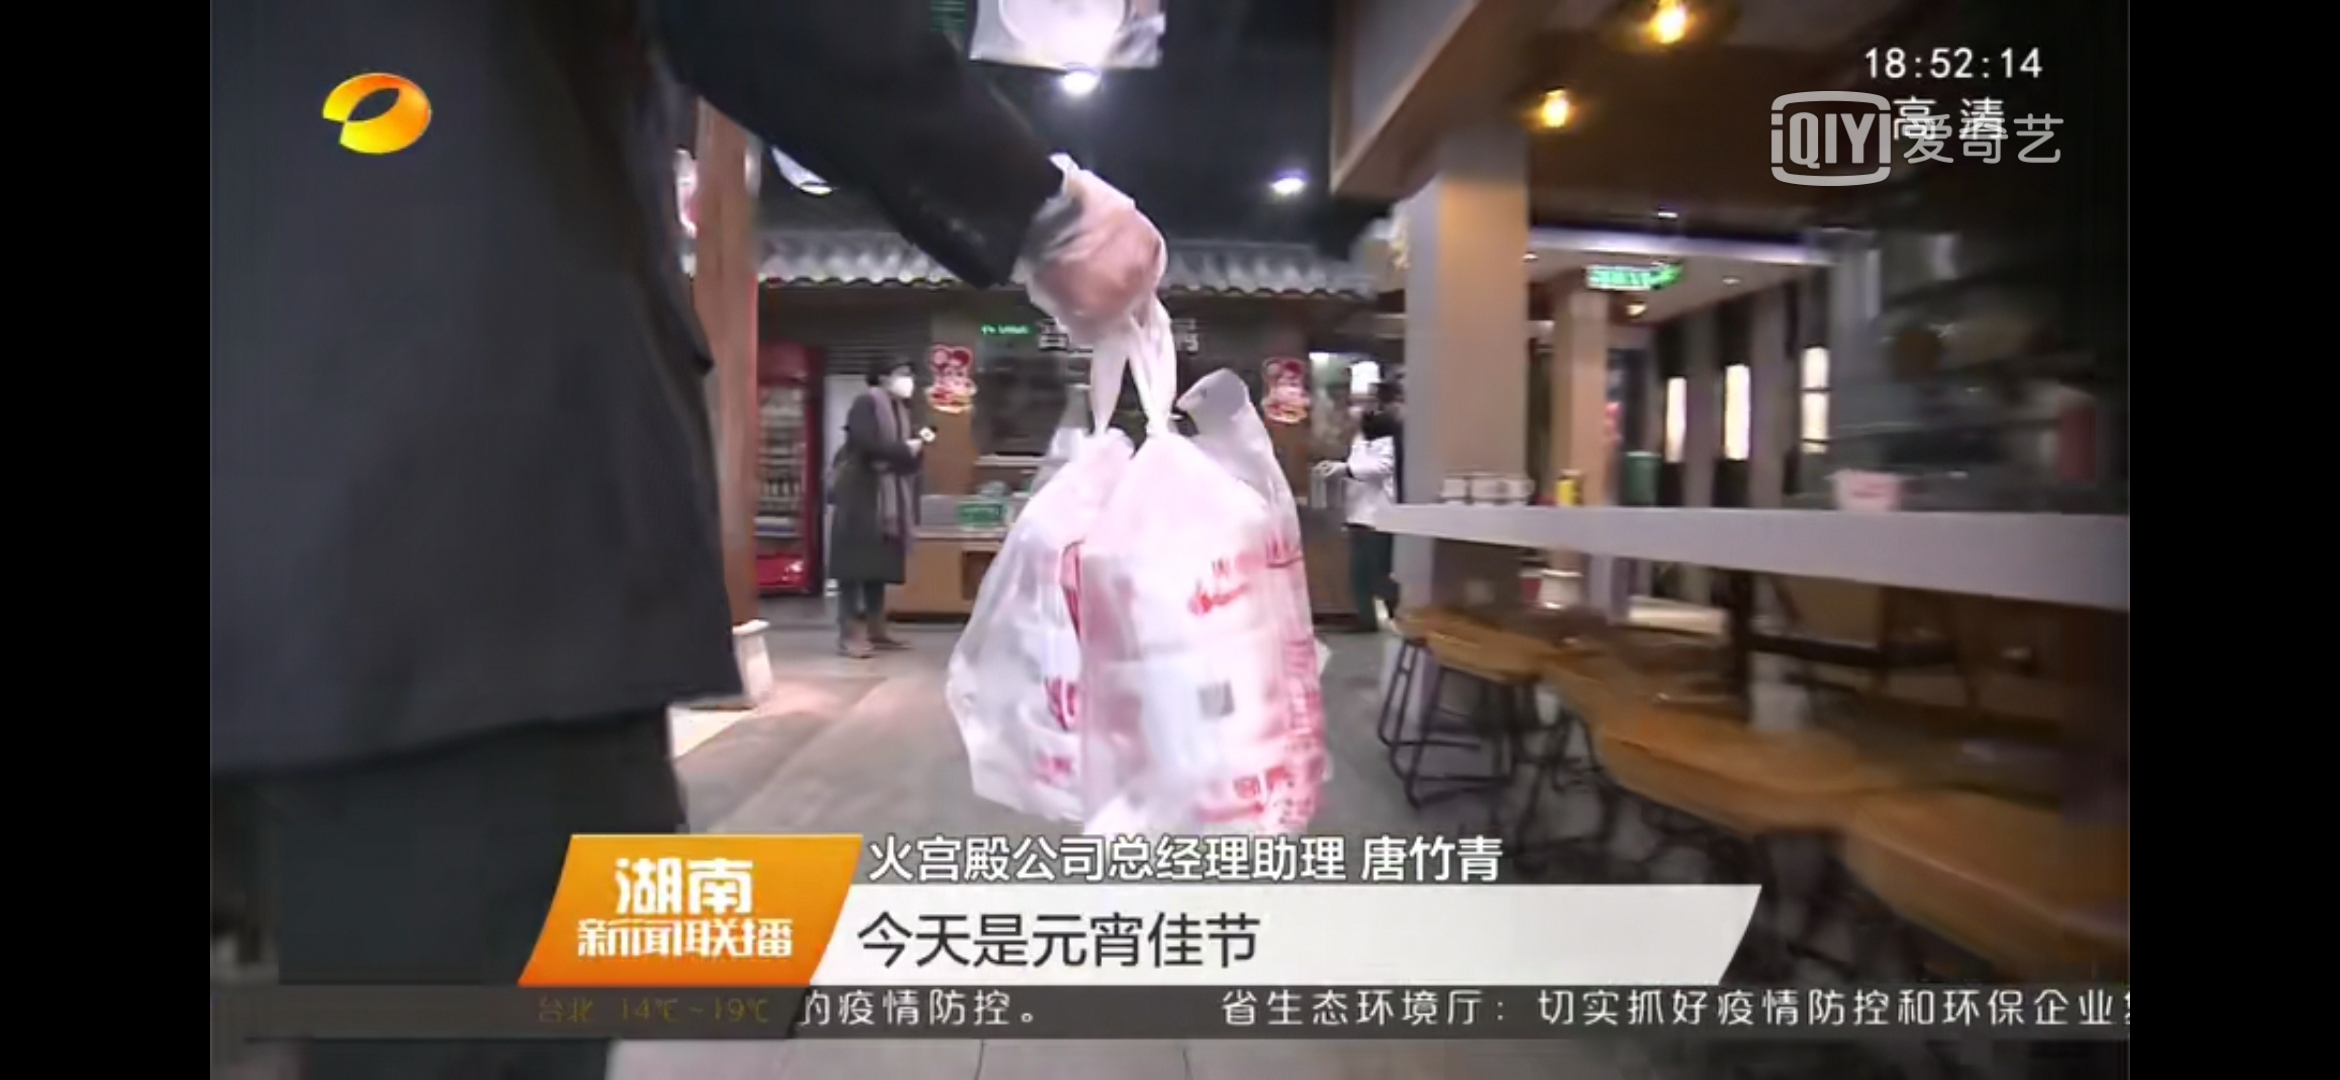correctlyWear: (879, 364, 919, 406), (1349, 398, 1376, 422)
